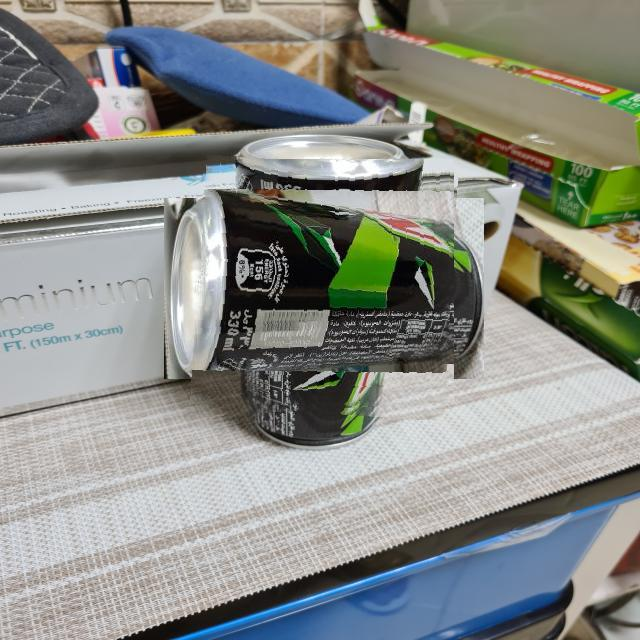recyclable: (194, 159, 454, 417)
